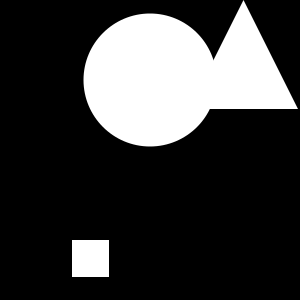circle: (72, 240, 109, 277)
rectangle: (84, 13, 216, 146)
triangle: (189, 0, 298, 109)
